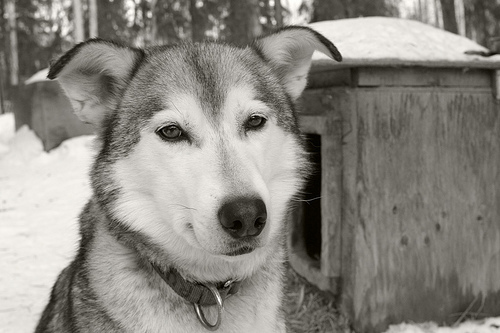dog: (31, 22, 344, 332)
